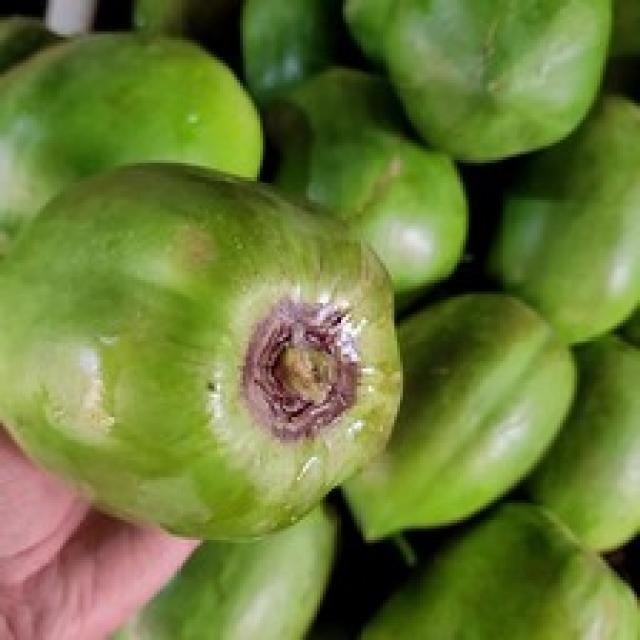Pepaya unrippen: (12, 143, 412, 550)
